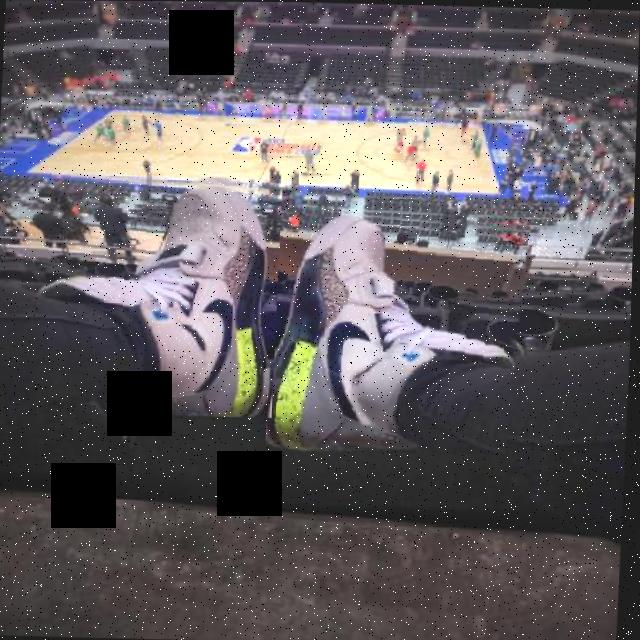shoe: (268, 205, 532, 455), (33, 171, 284, 417)
